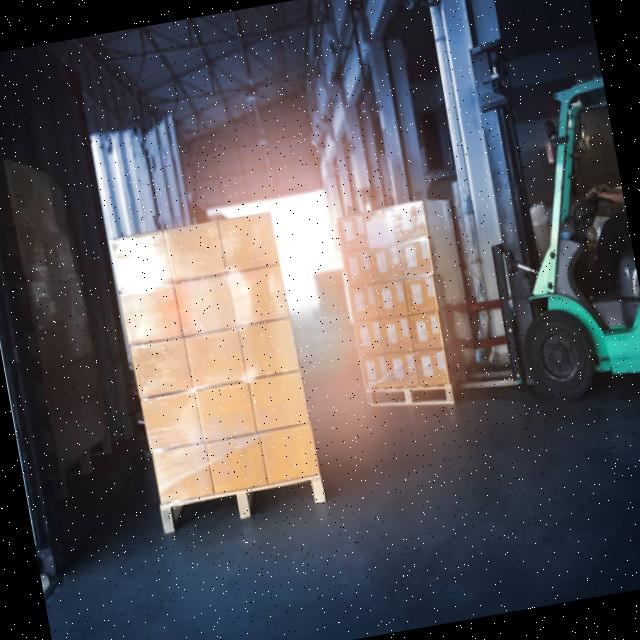Wooden-Pallets: (158, 464, 330, 536), (363, 383, 455, 413)
